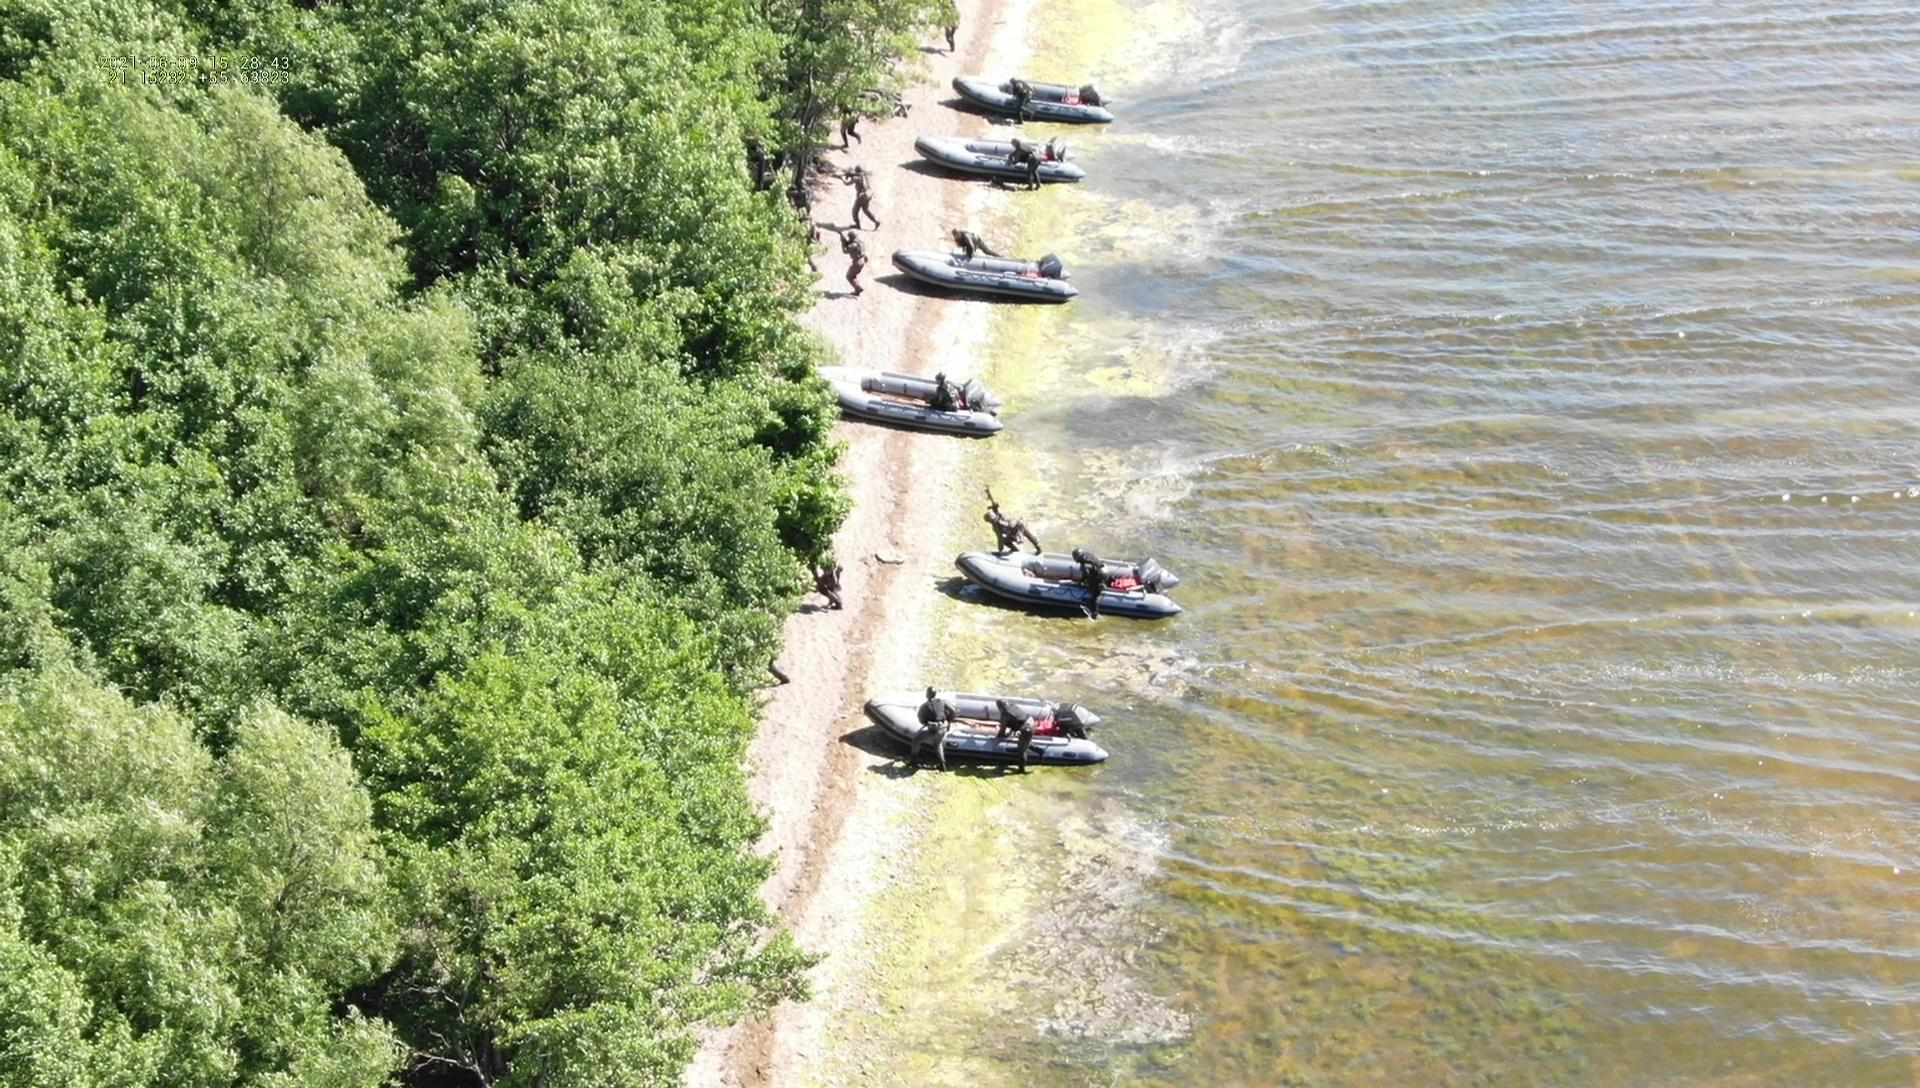Soldier: (982, 485, 1044, 559), (905, 684, 951, 775), (832, 164, 881, 231), (836, 222, 872, 297)
